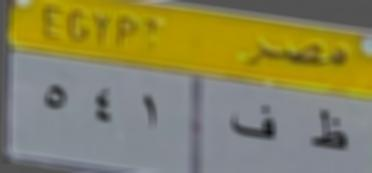1: (133, 89, 162, 132)
4: (89, 80, 114, 127)
5: (40, 78, 70, 120)
Thaa: (306, 106, 352, 154)
faa: (228, 103, 278, 146)
